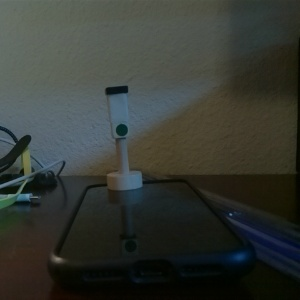traffic light green: (99, 82, 145, 193)
